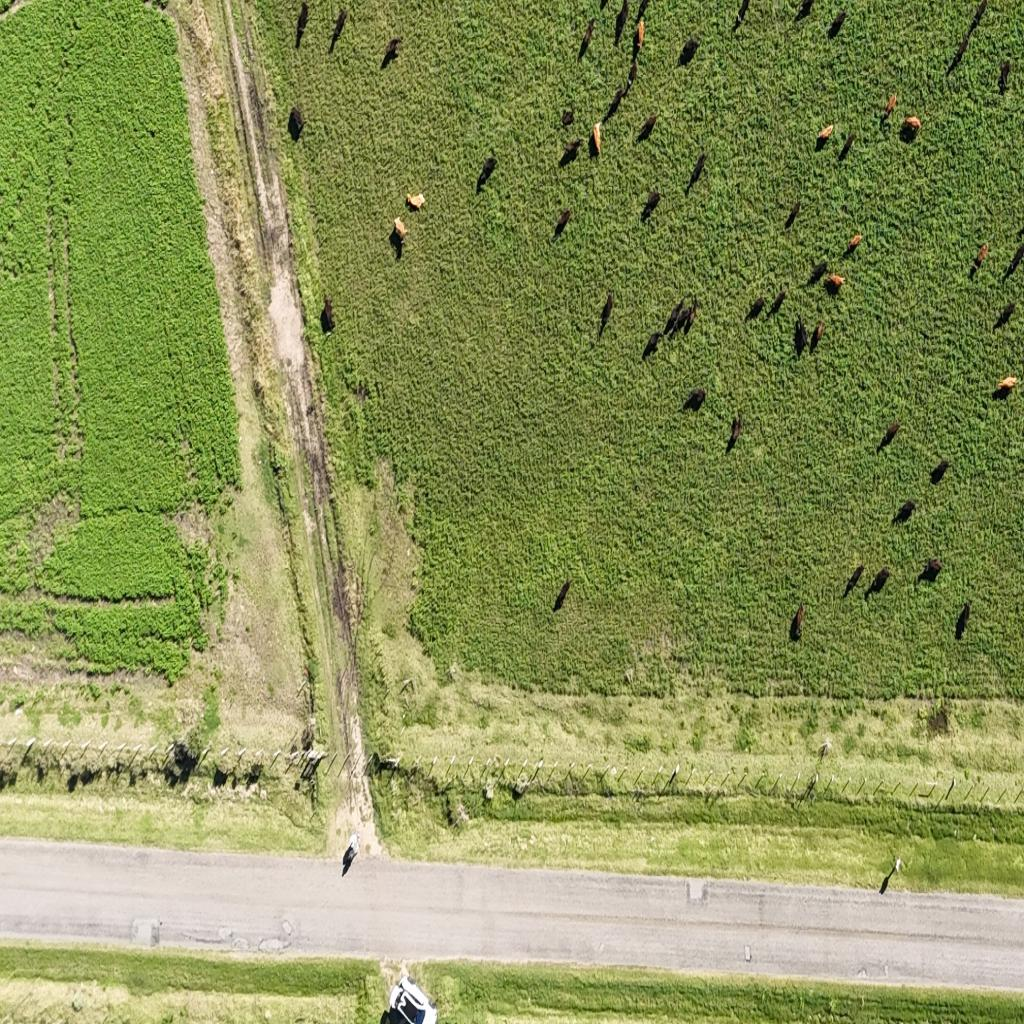cow: (946, 34, 969, 78), (1001, 241, 1024, 281), (329, 7, 348, 52), (667, 299, 687, 337), (559, 137, 584, 167), (604, 84, 624, 121), (381, 34, 403, 66), (295, 0, 309, 49), (689, 151, 707, 189), (994, 299, 1016, 330), (637, 110, 658, 142), (288, 104, 306, 140), (478, 156, 497, 190), (579, 18, 595, 58), (878, 421, 900, 450), (844, 564, 866, 593), (956, 601, 972, 639), (790, 603, 806, 641), (600, 290, 614, 333), (680, 35, 700, 65), (642, 330, 662, 360), (553, 578, 571, 611), (684, 294, 698, 336), (614, 0, 628, 42), (994, 376, 1020, 398), (727, 412, 742, 450), (970, 0, 987, 33), (828, 8, 848, 36), (553, 207, 571, 238), (682, 388, 706, 411), (870, 568, 891, 594), (794, 317, 808, 356), (643, 189, 661, 219), (894, 500, 916, 524), (785, 198, 801, 230), (770, 286, 787, 316), (922, 557, 944, 580), (321, 294, 335, 330), (930, 458, 950, 483), (632, 21, 645, 59), (622, 63, 636, 98), (808, 259, 828, 283), (971, 244, 988, 272), (810, 319, 824, 353), (998, 58, 1011, 94), (795, 0, 815, 23), (839, 131, 854, 160), (816, 123, 834, 147), (747, 296, 765, 320), (734, 0, 750, 27), (881, 94, 897, 121), (846, 231, 863, 255), (406, 190, 426, 210), (635, 0, 650, 26), (824, 273, 846, 290), (592, 121, 602, 155), (393, 217, 408, 239), (903, 115, 922, 131), (393, 234, 404, 260), (356, 382, 369, 403), (562, 108, 574, 128), (624, 668, 634, 685), (152, 0, 168, 10)
